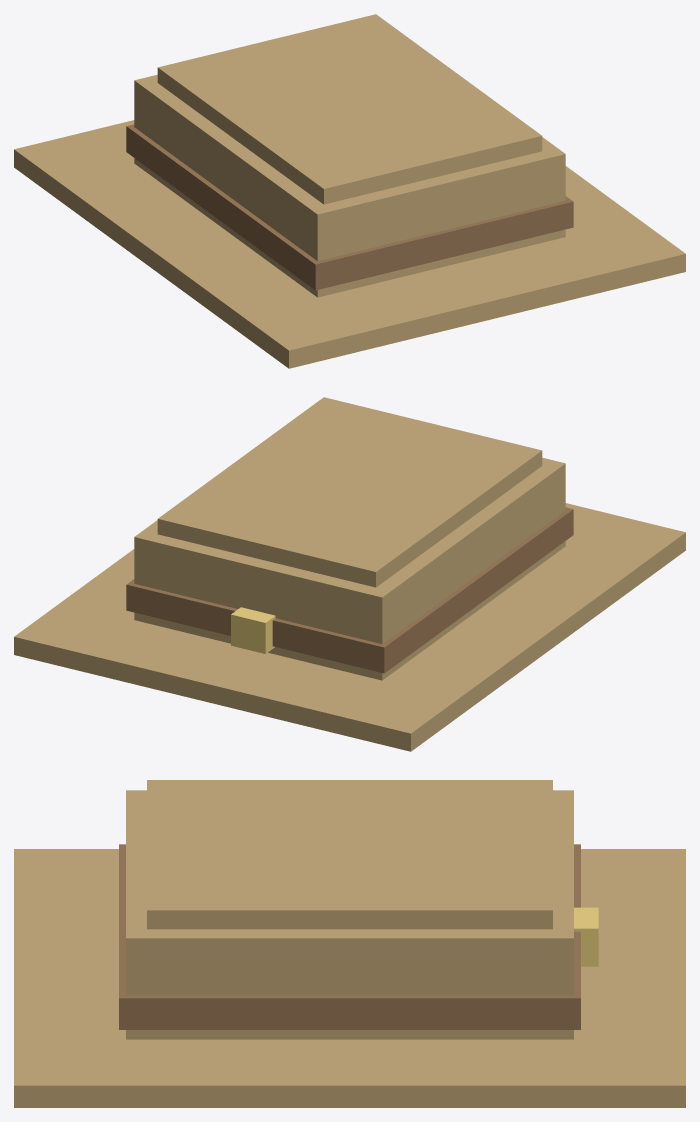
Rendered from chapeu_escoteiro.glb.
3 renders of one model, top to bottom at view 1: azimuth 30°, elevation 25°; view 2: azimuth 150°, elevation 25°; view 3: azimuth 270°, elevation 25°, orthographic. The views are drawn at different scales.
Parts seen in each view (by area): view 1: chapeu_escoteiro; view 2: chapeu_escoteiro; view 3: chapeu_escoteiro.
Boxes of the visible parts, x1,y1,x2,y2 form: chapeu_escoteiro: [14, 14, 685, 368]; chapeu_escoteiro: [14, 397, 685, 751]; chapeu_escoteiro: [14, 780, 685, 1107].
Bounding box in the file's own units: 0.8 × 0.2275 × 0.96.
